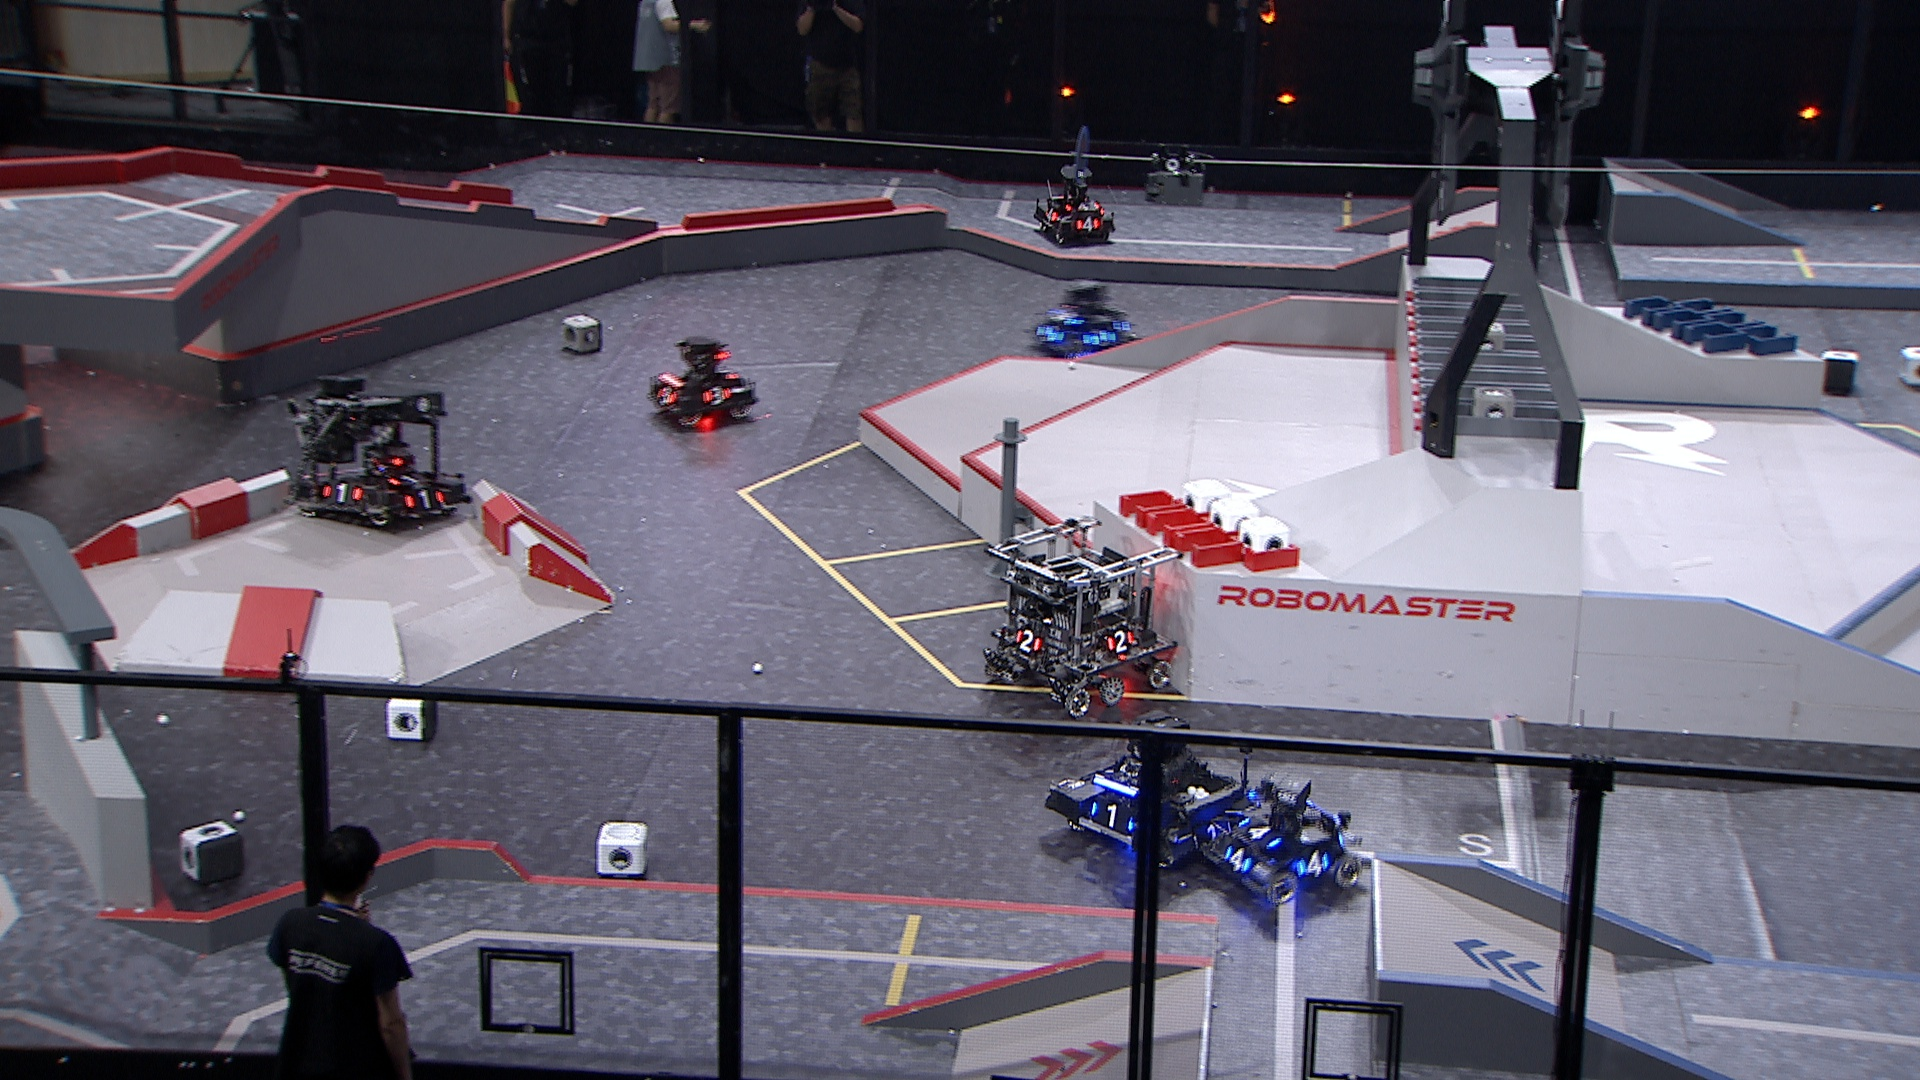armor: (1238, 818, 1278, 847), (320, 481, 363, 505), (1091, 806, 1131, 829), (405, 489, 446, 512), (1199, 818, 1233, 844), (1221, 847, 1250, 874), (1299, 851, 1329, 877), (1013, 629, 1040, 655), (1098, 756, 1129, 777), (1109, 632, 1135, 654), (392, 471, 429, 487), (700, 385, 731, 404), (1051, 305, 1081, 323), (1036, 323, 1063, 342), (1073, 215, 1098, 232), (1087, 328, 1112, 345), (716, 363, 735, 382), (657, 386, 675, 405), (1040, 208, 1059, 225), (1073, 196, 1095, 208)
car: (978, 516, 1172, 717), (1046, 708, 1250, 873), (278, 367, 468, 535), (1193, 767, 1357, 902), (647, 334, 761, 433), (1033, 286, 1138, 357), (1031, 161, 1117, 247)
